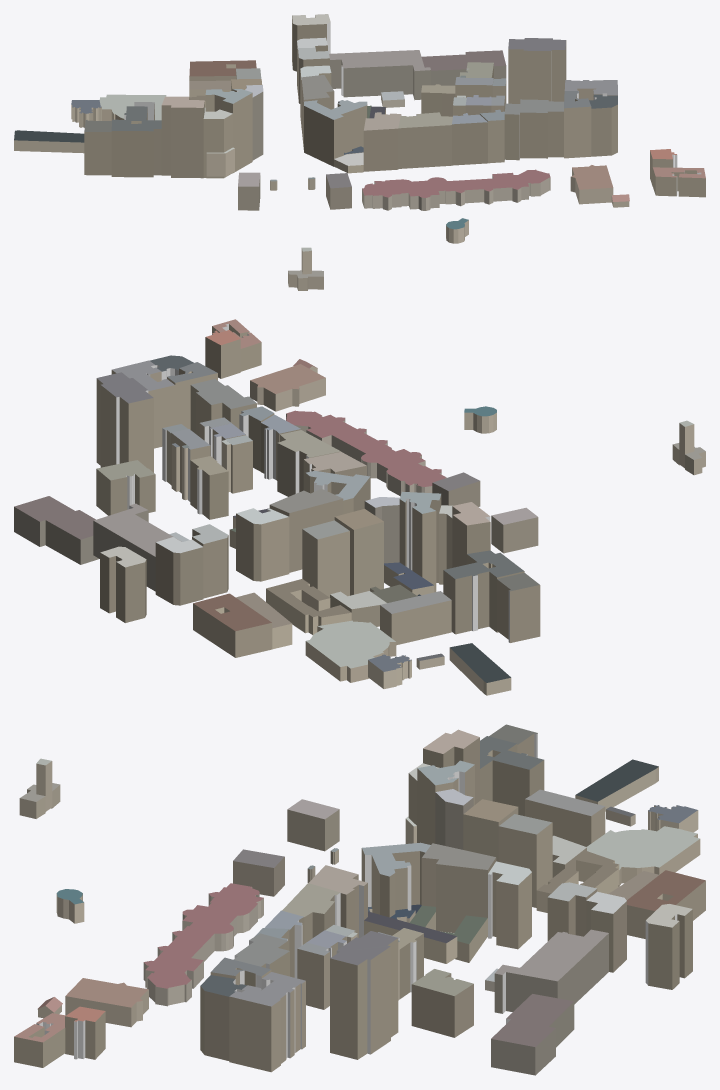
3 views of the same model, one above another, from view 1: azimuth 30°, elevation 25°; view 2: azimuth 150°, elevation 25°; view 3: azimuth 270°, elevation 25° (orthographic). The views are drawn at different scales.
Visible parts, largest first — view 1: tuile; view 2: tuile; view 3: tuile.
Boxes of the visible parts, bbox=[...] form: tuile: bbox=[14, 14, 705, 290]; tuile: bbox=[14, 319, 705, 695]; tuile: bbox=[14, 724, 705, 1075].
Bounding box in the file's own units: 278 × 45.64 × 264.
